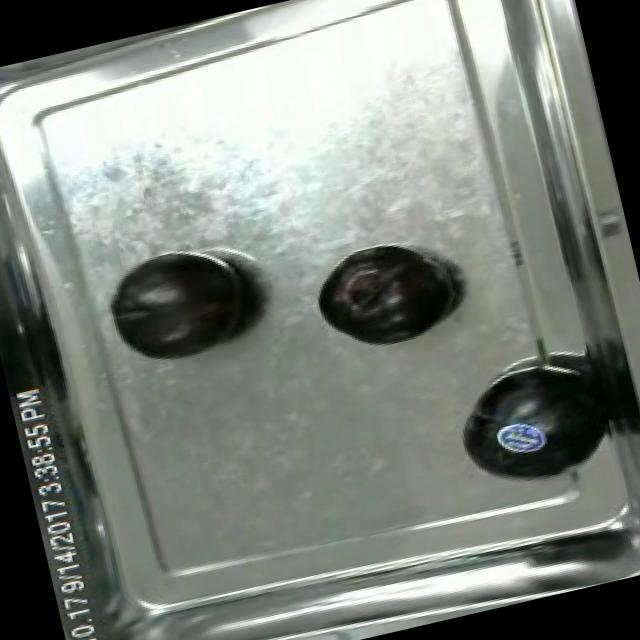Fruit: (451, 347, 624, 499), (93, 231, 270, 377), (306, 236, 462, 364)
